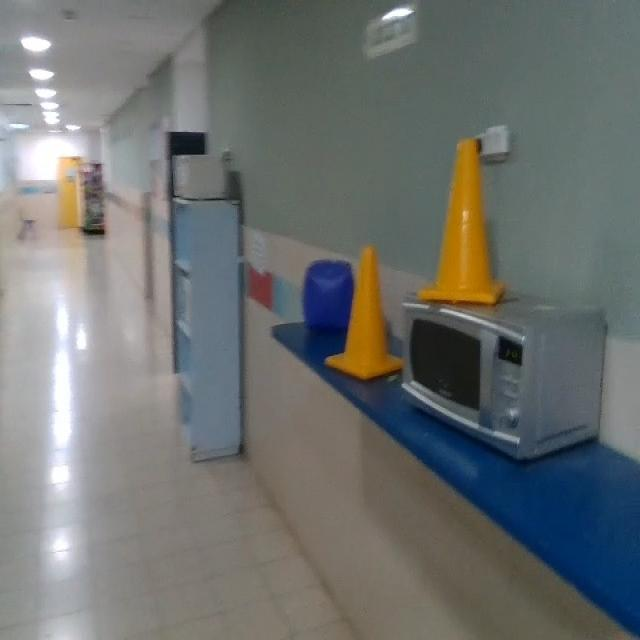cone: (417, 138, 507, 305), (324, 246, 404, 379)
cube: (302, 258, 354, 331)
